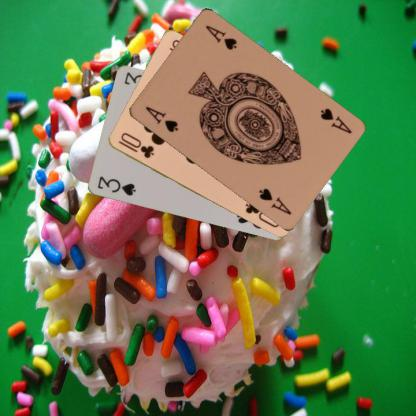10c: (115, 130, 155, 160)
3s: (95, 173, 137, 198)
As: (142, 103, 179, 134), (317, 106, 353, 135)
